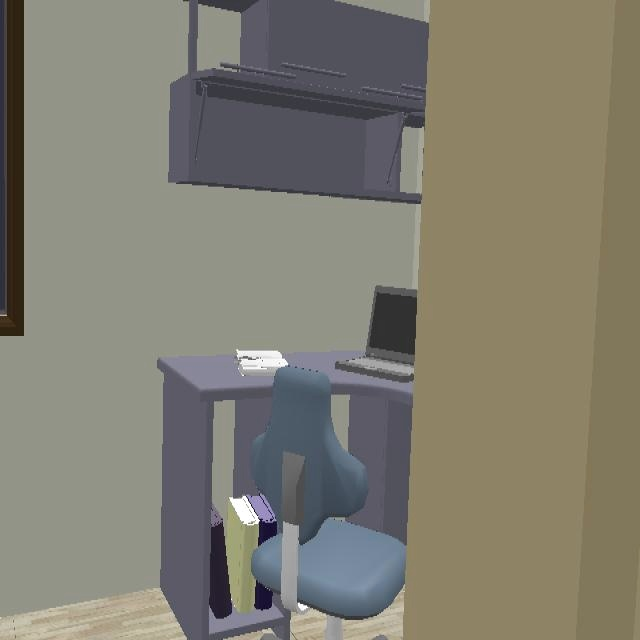book: (208, 495, 277, 619), (231, 349, 290, 385)
cabinet: (168, 0, 427, 204)
chair: (251, 367, 406, 627)
laptop: (335, 285, 418, 381)
table: (282, 349, 412, 405), (157, 355, 273, 400)
